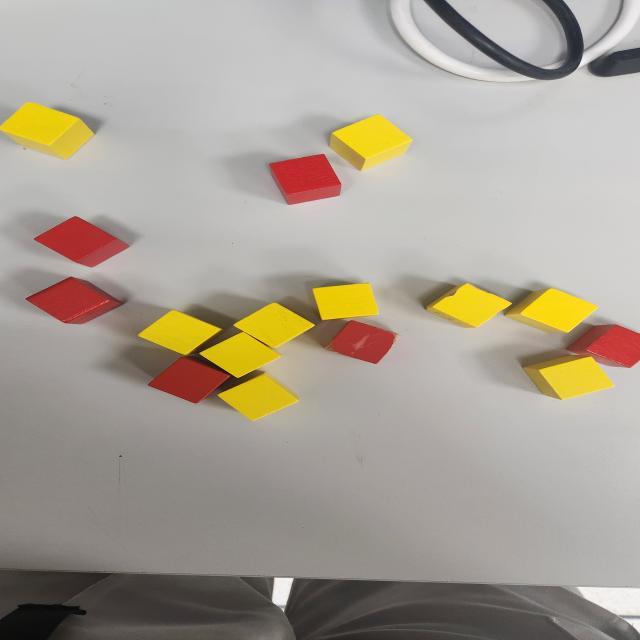broken: (426, 283, 513, 326), (323, 320, 401, 363)
red: (32, 216, 132, 267), (28, 277, 124, 325), (147, 356, 231, 404), (268, 154, 342, 204), (565, 323, 640, 368)
yellow: (2, 101, 94, 161), (328, 115, 412, 172), (504, 288, 600, 334), (524, 356, 616, 399), (218, 374, 300, 422), (140, 309, 222, 356), (198, 333, 282, 378), (235, 303, 315, 349), (313, 283, 379, 319)
